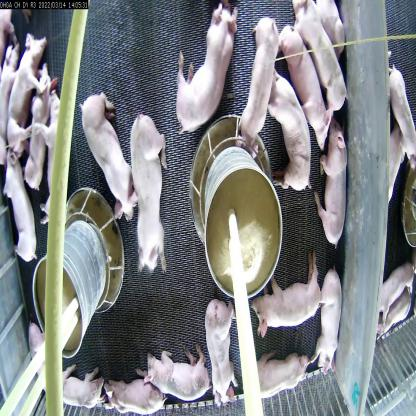Pig: (69, 77, 145, 233), (272, 17, 336, 154), (174, 2, 238, 136), (126, 105, 172, 287), (288, 1, 352, 119), (232, 13, 282, 163), (266, 60, 317, 197), (241, 257, 323, 335), (198, 288, 247, 410), (0, 137, 39, 284), (37, 74, 68, 238), (320, 120, 354, 256), (19, 321, 71, 403), (141, 346, 212, 406), (9, 30, 43, 151), (26, 64, 56, 198), (247, 351, 316, 405), (386, 55, 416, 171), (371, 260, 416, 336), (104, 369, 170, 415), (55, 358, 109, 413), (318, 268, 342, 382)
